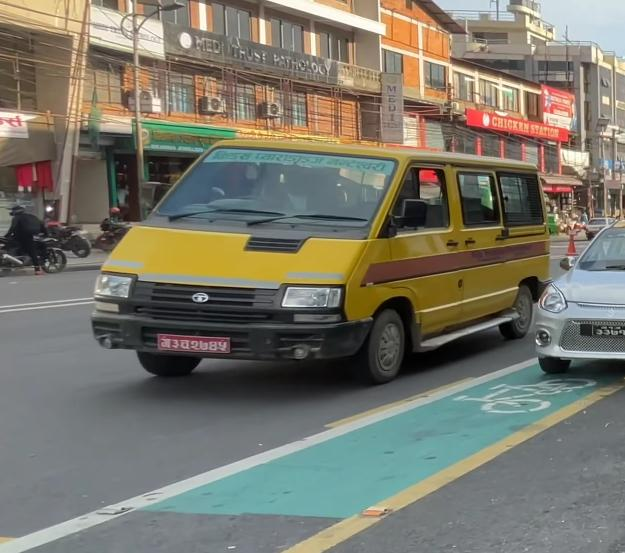school_bus: (84, 132, 554, 392)
taxi: (531, 213, 625, 376)
